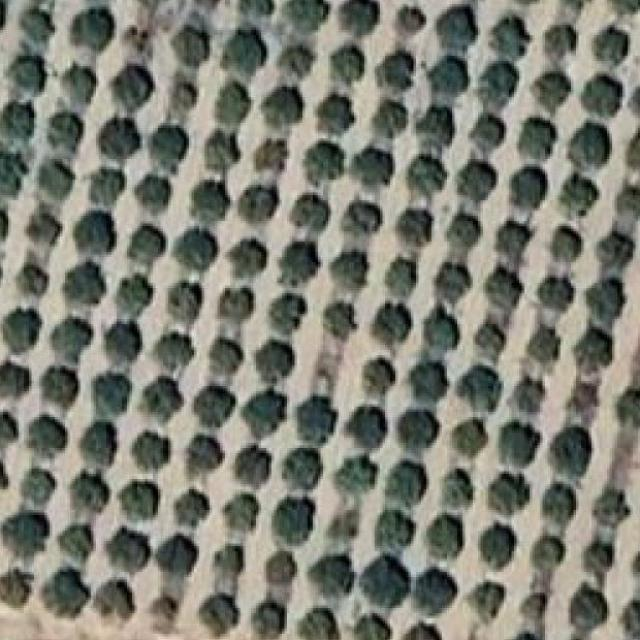Tree: (546, 422, 595, 479), (60, 1, 113, 50), (491, 420, 540, 473), (426, 2, 478, 51), (220, 25, 271, 74), (374, 43, 419, 97), (483, 12, 537, 57), (345, 400, 393, 450), (233, 180, 282, 228), (485, 464, 533, 513), (36, 107, 84, 155), (411, 564, 459, 612), (227, 440, 275, 488), (457, 367, 504, 416), (333, 448, 382, 495), (41, 570, 88, 619), (311, 551, 357, 601), (196, 589, 244, 636), (239, 388, 287, 435), (178, 427, 225, 475), (476, 58, 522, 106), (2, 512, 50, 558), (517, 118, 566, 163), (365, 559, 414, 604), (268, 497, 318, 541), (431, 467, 475, 517), (520, 321, 566, 368), (367, 300, 414, 346), (388, 458, 432, 507), (292, 397, 341, 441), (105, 527, 150, 574), (564, 123, 612, 167), (93, 116, 142, 159), (166, 23, 213, 67), (378, 507, 421, 555), (301, 138, 346, 183), (145, 123, 189, 169), (115, 61, 158, 108), (419, 306, 466, 349), (50, 317, 93, 364), (173, 229, 217, 274), (352, 147, 398, 190), (4, 51, 45, 99), (289, 190, 333, 234), (415, 107, 460, 150), (366, 100, 411, 143), (577, 324, 622, 367), (257, 544, 302, 587), (218, 492, 261, 537), (394, 205, 437, 249), (579, 71, 623, 114), (196, 133, 241, 175), (263, 288, 308, 330), (309, 97, 357, 136), (585, 278, 628, 321), (251, 334, 294, 377), (142, 376, 182, 422), (336, 0, 383, 39), (72, 211, 114, 254), (542, 23, 586, 64), (227, 236, 271, 277), (62, 262, 103, 306), (113, 23, 157, 64), (260, 87, 305, 127), (154, 534, 196, 576), (84, 164, 127, 205), (401, 407, 442, 450), (336, 198, 380, 238), (478, 520, 516, 566), (459, 159, 501, 200), (484, 265, 525, 307), (409, 355, 449, 398), (194, 379, 237, 419), (1, 309, 41, 352), (568, 585, 607, 629), (470, 580, 509, 624), (428, 59, 473, 97), (325, 37, 361, 84), (362, 355, 398, 402), (207, 85, 248, 126), (558, 174, 599, 215), (427, 507, 462, 555), (319, 298, 359, 340), (27, 415, 67, 457), (511, 164, 550, 207), (532, 72, 576, 110), (249, 136, 295, 172), (191, 176, 227, 222), (57, 64, 98, 104), (469, 112, 509, 153), (278, 241, 318, 282), (447, 417, 488, 457), (93, 376, 132, 418), (434, 260, 472, 303), (40, 156, 76, 201), (585, 484, 630, 520), (80, 422, 116, 467), (587, 28, 630, 65), (382, 252, 418, 296), (283, 446, 323, 485), (18, 4, 56, 45), (133, 169, 170, 211), (540, 484, 576, 527), (116, 276, 152, 319), (93, 580, 132, 619), (330, 250, 370, 288), (216, 288, 256, 326), (442, 214, 483, 251), (128, 223, 165, 264), (42, 367, 78, 409), (2, 100, 37, 143), (166, 281, 201, 324), (297, 606, 341, 640), (496, 219, 534, 258), (253, 598, 292, 636), (155, 334, 194, 372), (131, 430, 168, 470), (169, 484, 210, 520), (104, 321, 140, 362), (72, 471, 108, 512), (594, 230, 632, 268), (410, 157, 449, 194), (118, 482, 155, 521), (280, 38, 315, 79), (475, 317, 509, 359), (539, 272, 576, 310), (530, 530, 571, 564), (280, 0, 326, 30), (581, 539, 617, 577), (26, 208, 62, 246), (212, 544, 245, 584), (392, 0, 427, 37), (20, 468, 54, 506), (164, 78, 199, 114), (58, 526, 93, 562), (566, 381, 596, 423), (0, 570, 31, 609), (0, 151, 27, 195), (549, 223, 584, 256), (516, 596, 552, 628), (210, 338, 242, 374), (513, 380, 545, 416), (150, 596, 178, 634), (613, 384, 640, 422), (359, 611, 394, 640), (0, 361, 29, 396), (612, 183, 640, 219), (16, 262, 46, 295), (617, 598, 640, 639), (400, 620, 445, 640), (0, 412, 19, 450), (235, 0, 280, 15), (623, 133, 640, 169), (606, 0, 640, 15), (0, 208, 9, 242), (506, 634, 547, 640), (633, 82, 640, 114), (634, 543, 640, 578), (0, 0, 6, 30)
